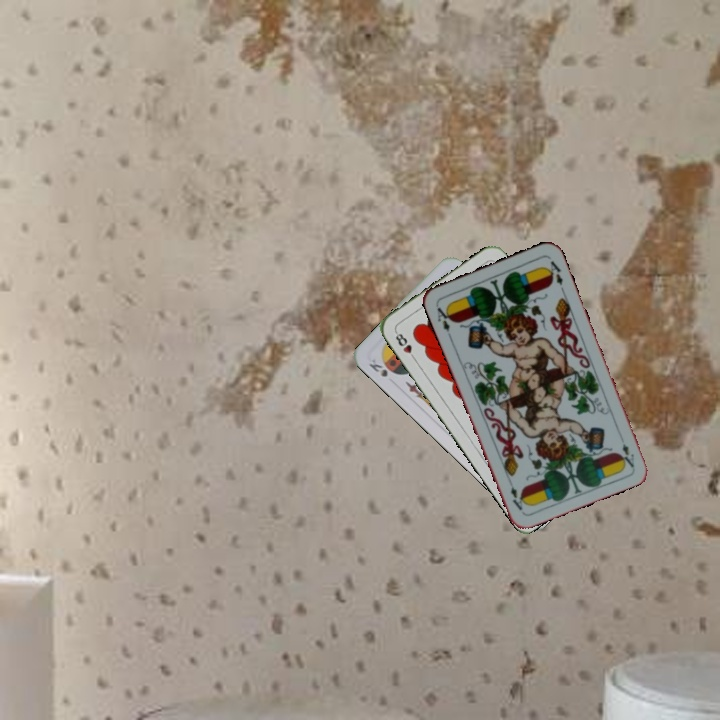EA: (432, 301, 455, 340), (618, 440, 637, 470)
H8: (391, 327, 419, 363)
SK: (365, 355, 399, 379)
